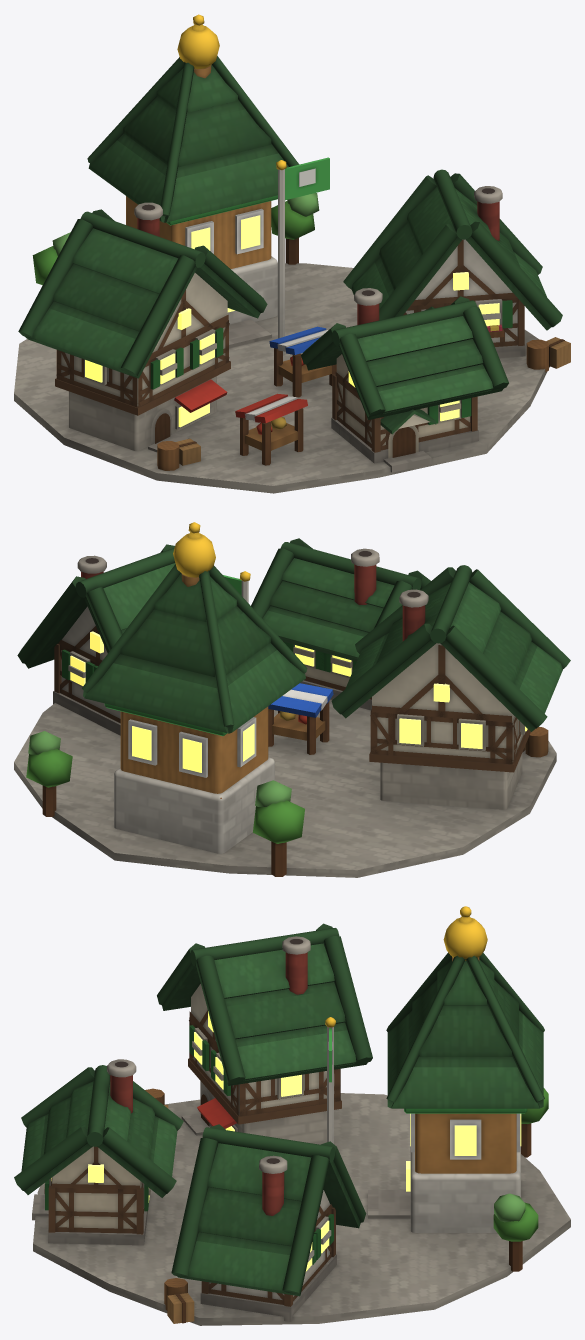
File: city_dl3_green.glb
3 renders of one model, top to bottom at view 1: azimuth 30°, elevation 25°; view 2: azimuth 150°, elevation 25°; view 3: azimuth 270°, elevation 25°, orthographic.
Parts seen in each view (by area): view 1: city_dl3_green; view 2: city_dl3_green; view 3: city_dl3_green.
Part boxes in pixels (<box>): city_dl3_green: <box>14,14,570,493</box>; city_dl3_green: <box>14,522,570,877</box>; city_dl3_green: <box>14,906,570,1325</box>.
Size of the model in its own units: 1.58 by 0.8794 by 1.44.
Materials: 2 (1 with a texture image).
